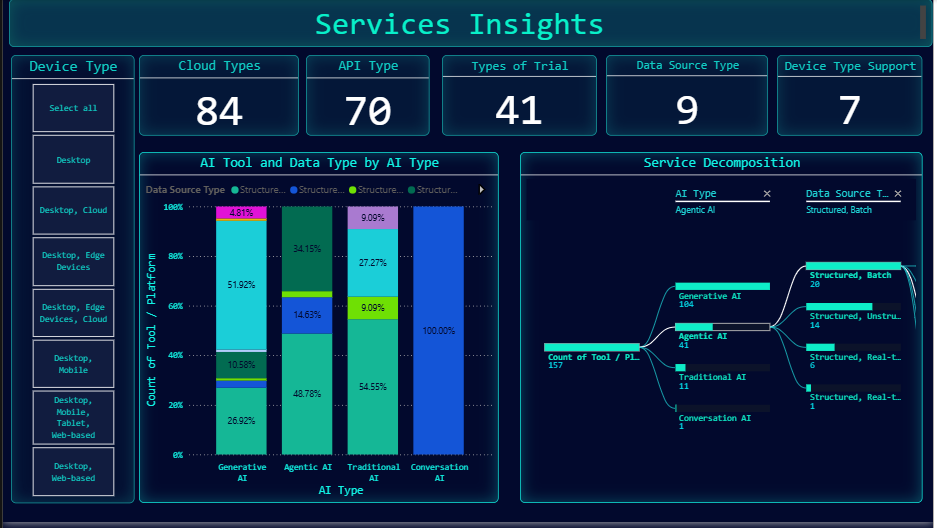

Layout of this report page (visuals, bound fields, positions):
{"tool":"powerbi","page":{"name":"Services Insights ","canvas":[1280,720],"ordinal":3},"visuals":[{"type":"textbox","box":[8.9,0,1271.1,66.1],"z":0},{"type":"card","title":"Cloud Types","fields":{"Values":["Count(Cleaned Analysis.Cloud platform support type)"]},"box":[187.7,76.9,219.9,110.8],"z":1000},{"type":"card","title":" Types of Trial ","fields":{"Values":["Count(trial.Trial Period (Confirmed or Consistent 2025 Status) - Daily Usage Focus)"]},"box":[604.2,76.9,212.7,110.8],"z":2000},{"type":"card","title":"API Type ","fields":{"Values":["Count(Cleaned Analysis.API quality(type) used by platform  )"]},"box":[416.5,76.9,169.8,110.8],"z":3000},{"type":"slicer","title":"Device Type","fields":{"Values":["Cleaned Analysis.Device / Platform Support"]},"box":[10.7,76.9,169.8,616.8],"z":4000},{"type":"hundredPercentStackedColumnChart","title":"AI Tool and Data Type by  AI Type","fields":{"Category":["Cleaned Analysis.AI Type"],"Series":["Cleaned Analysis.Data Source Type"],"Y":["CountNonNull(Cleaned Analysis.Tool / Platform)"]},"box":[187.7,210.9,495.2,482.7],"z":5000},{"type":"card","title":"Data Source Type ","fields":{"Values":["Count(Cleaned Analysis.Data Source Type)"]},"box":[829.5,76.9,223.5,110.8],"z":6000},{"type":"card","title":"Device Type Support","fields":{"Values":["Count(Cleaned Analysis.Device / Platform Support)"]},"box":[1065.5,76.9,200.2,110.8],"z":7000},{"type":"decompositionTreeVisual","title":"Service Decomposition ","fields":{"ExplainBy":["Cleaned Analysis.Device / Platform Support","Cleaned Analysis.Data Source Type","Cleaned Analysis.Cloud platform support type","Cleaned Analysis.AI Type","Cleaned Analysis.API quality(type) used by platform  "],"Analyze":["CountNonNull(Cleaned Analysis.Tool / Platform)"]},"box":[711.5,210.9,554.2,482.7],"z":8000}]}

Visuals, with their boxes in screenshot pixels (x1, y1, x2, y2), scaled from the page's 1280x720 canvas onto the 937x528 screenshot:
textbox: [x1=7, y1=0, x2=936, y2=48]
"Cloud Types" card: [x1=137, y1=56, x2=298, y2=138]
" Types of Trial " card: [x1=442, y1=56, x2=598, y2=138]
"API Type " card: [x1=305, y1=56, x2=429, y2=138]
"Device Type" slicer: [x1=8, y1=56, x2=132, y2=509]
"AI Tool and Data Type by  AI Type" hundredPercentStackedColumnChart: [x1=137, y1=155, x2=500, y2=509]
"Data Source Type " card: [x1=607, y1=56, x2=771, y2=138]
"Device Type Support" card: [x1=780, y1=56, x2=927, y2=138]
"Service Decomposition " decompositionTreeVisual: [x1=521, y1=155, x2=927, y2=509]
